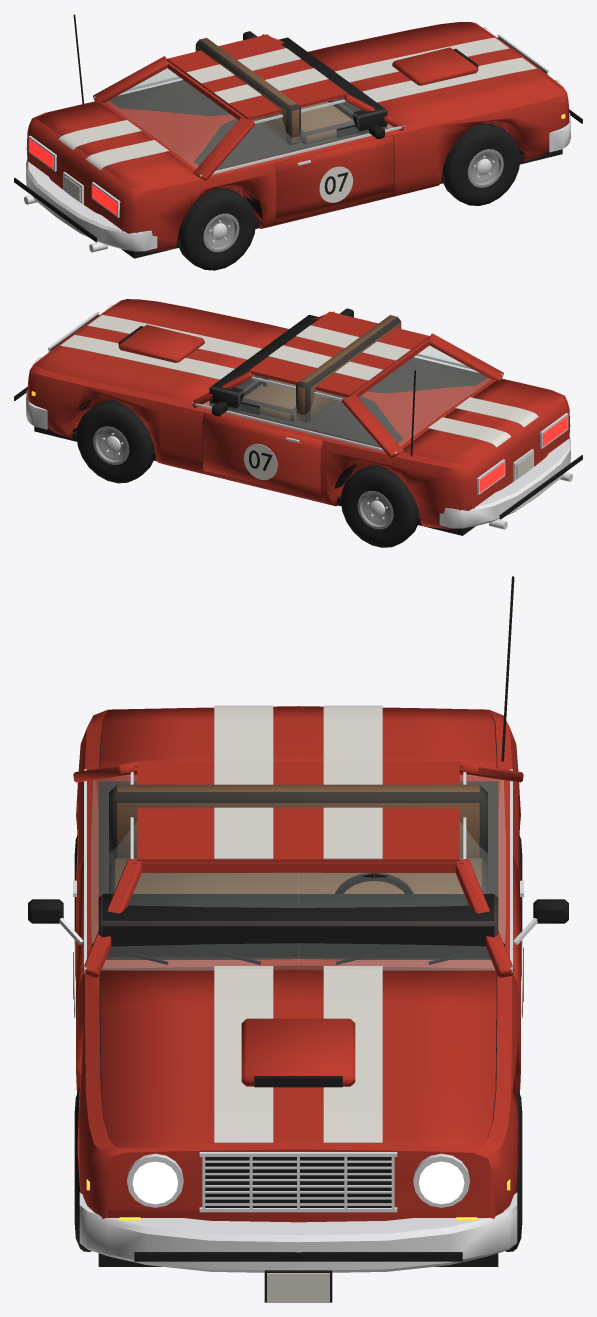
Rendered from derby_coupe_game.glb.
The picture shows the model from 3 angles, top to bottom: view 1: azimuth 30°, elevation 25°; view 2: azimuth 150°, elevation 25°; view 3: azimuth 270°, elevation 25°; orthographic projection. The views are drawn at different scales.
Visible parts, largest first — view 1: body, interior, glass, hood, door_R, wheel_FR, wheel_RR, roof, trunk, pillars, bumper_R, hood_scoop (+14 smaller); view 2: body, interior, glass, hood, door_L, wheel_FL, wheel_RL, roof, trunk, pillars, bumper_R, hood_scoop (+14 smaller); view 3: interior, hood, body, glass, bumper_F, roof, trunk, black_details, chrome_details, pillars, stripe_hood_1, stripe_hood_-1 (+12 smaller).
Part boxes in pixels (x1=…): body: x1=26, y1=22, x2=569, y2=251; interior: x1=109, y1=37, x2=387, y2=170; glass: x1=106, y1=68, x2=393, y2=170; hood: x1=308, y1=22, x2=561, y2=127; door_R: x1=274, y1=135, x2=394, y2=222; wheel_FR: x1=442, y1=123, x2=520, y2=205; wheel_RR: x1=177, y1=187, x2=255, y2=270; roof: x1=167, y1=34, x2=347, y2=119; trunk: x1=36, y1=102, x2=194, y2=187; pillars: x1=93, y1=34, x2=404, y2=180; bumper_R: x1=26, y1=160, x2=157, y2=251; hood_scoop: x1=392, y1=47, x2=478, y2=85; body: x1=27, y1=299, x2=570, y2=529; interior: x1=209, y1=314, x2=487, y2=447; glass: x1=203, y1=345, x2=491, y2=447; hood: x1=35, y1=299, x2=287, y2=404; door_L: x1=202, y1=412, x2=322, y2=499; wheel_FL: x1=76, y1=400, x2=154, y2=483; wheel_RL: x1=340, y1=465, x2=419, y2=547; roof: x1=249, y1=311, x2=429, y2=397; trunk: x1=402, y1=379, x2=560, y2=464; pillars: x1=192, y1=311, x2=503, y2=457; bumper_R: x1=439, y1=437, x2=570, y2=528; hood_scoop: x1=118, y1=324, x2=204, y2=362; interior: x1=98, y1=781, x2=498, y2=959; hood: x1=100, y1=965, x2=496, y2=1148; body: x1=76, y1=706, x2=520, y2=1222; glass: x1=91, y1=775, x2=505, y2=970; bumper_F: x1=79, y1=1192, x2=517, y2=1272; roof: x1=137, y1=761, x2=459, y2=862; trunk: x1=100, y1=706, x2=496, y2=767; black_details: x1=28, y1=576, x2=568, y2=1302; chrome_details: x1=59, y1=880, x2=537, y2=1212; pillars: x1=73, y1=760, x2=523, y2=977; stripe_hood_1: x1=323, y1=966, x2=382, y2=1142; stripe_hood_-1: x1=214, y1=966, x2=273, y2=1142.
Bounding box in the file's own units: 5.36 × 1.95 × 2.57.
